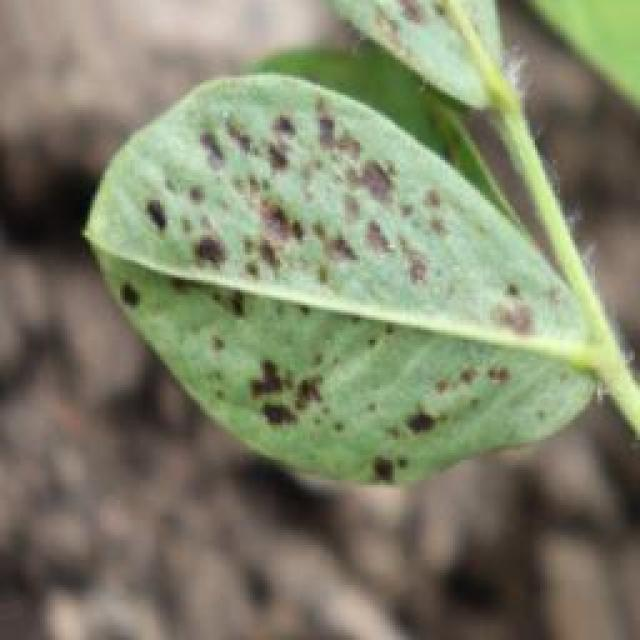Whitefly: (69, 0, 581, 474)
